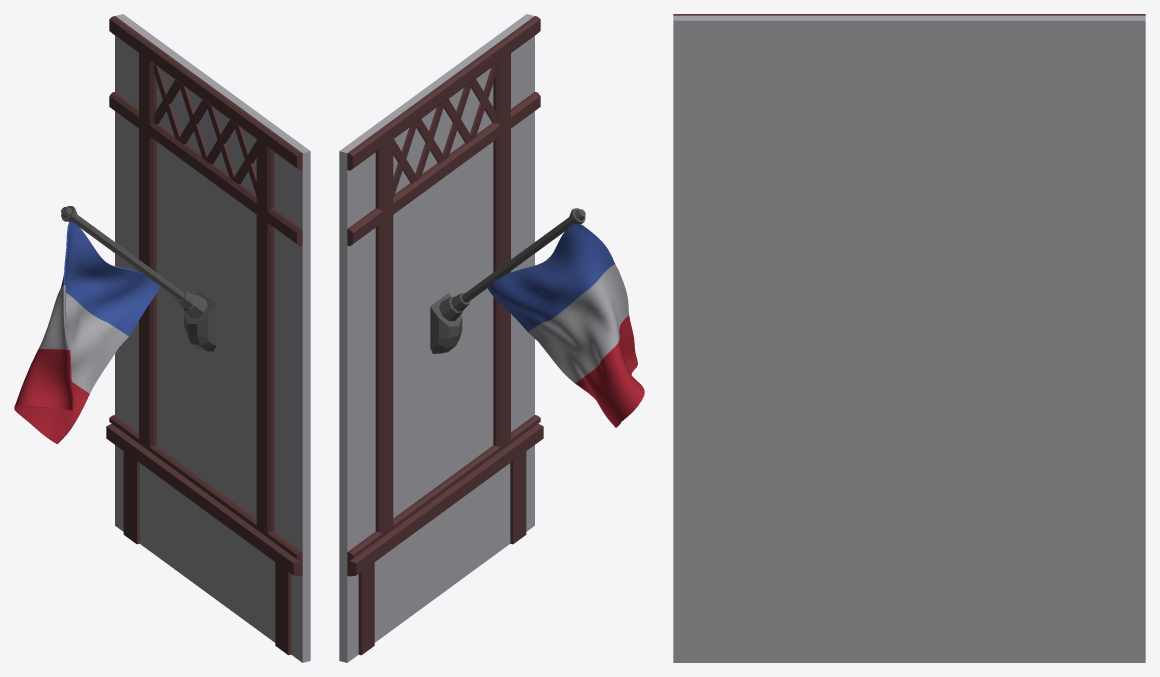
Rendered from Wall_deco_Slum.fbx.
3 renders of one model, left to right at view 1: azimuth 30°, elevation 25°; view 2: azimuth 150°, elevation 25°; view 3: azimuth 270°, elevation 25°, orthographic. The views are drawn at different scales.
Parts seen in each view (by area): view 1: Wall_deco_Slum; view 2: Wall_deco_Slum; view 3: Wall_deco_Slum.
Part boxes in pixels (<box>): Wall_deco_Slum: <box>14,14,310,662</box>; Wall_deco_Slum: <box>339,14,644,662</box>; Wall_deco_Slum: <box>673,14,1145,662</box>.
Size of the model in its own units: 126 by 200 by 300.
